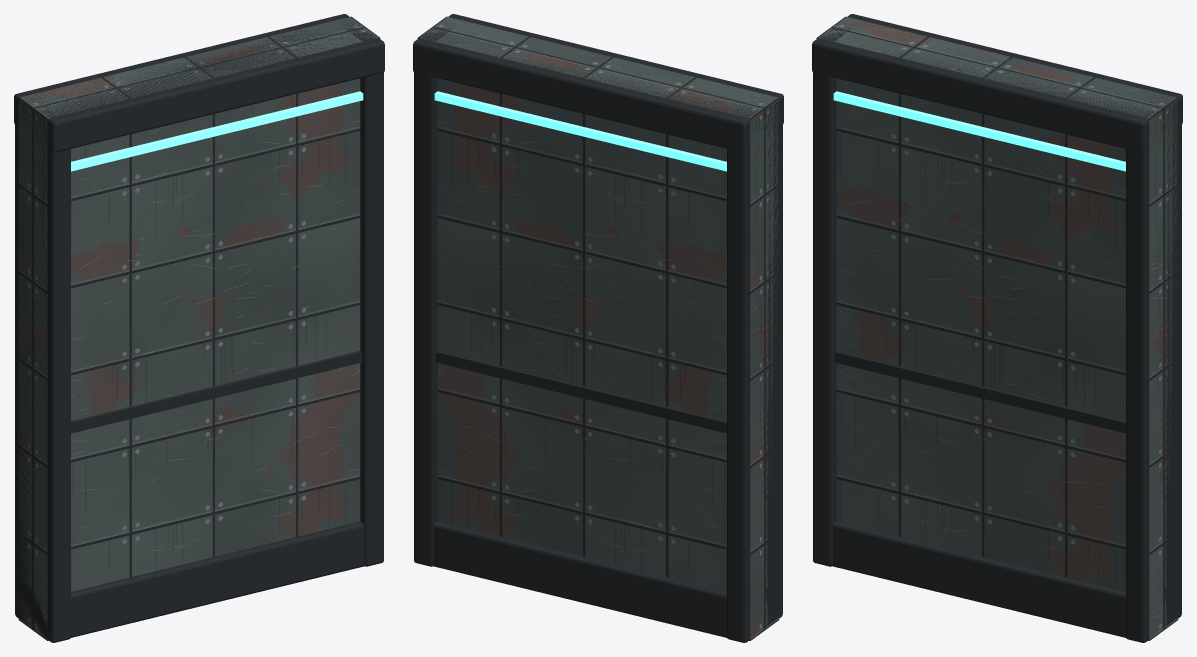
Rendered from wall_panel.glb.
3 views of the same model, side by side, from view 1: azimuth 30°, elevation 25°; view 2: azimuth 150°, elevation 25°; view 3: azimuth 330°, elevation 25° (orthographic).
Parts seen in each view (by area): view 1: wall_panel; view 2: wall_panel; view 3: wall_panel.
Boxes of the visible parts, x1=… form: wall_panel: x1=14, y1=14, x2=384, y2=642; wall_panel: x1=413, y1=14, x2=783, y2=642; wall_panel: x1=812, y1=14, x2=1182, y2=642.
Size of the model in its own units: 2 by 3 by 0.42.
Materials: 3 (1 with a texture image).
